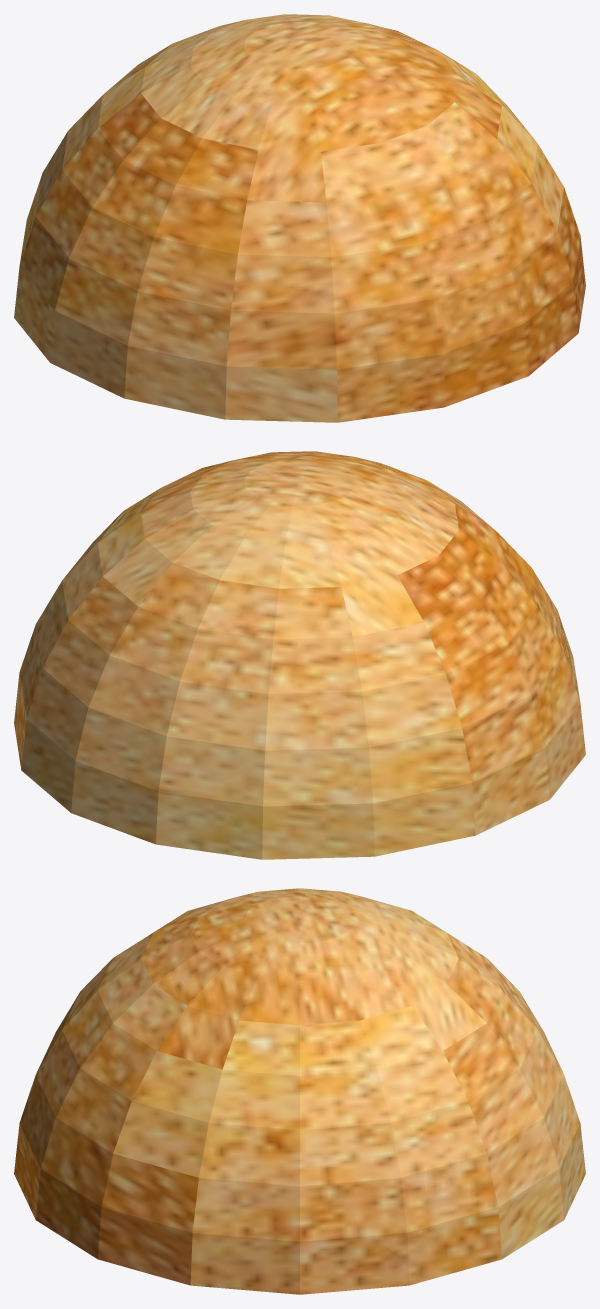
Rendered from bun_top.glb.
The picture shows the model from 3 angles, top to bottom: view 1: azimuth 30°, elevation 25°; view 2: azimuth 150°, elevation 25°; view 3: azimuth 270°, elevation 25°; orthographic projection.
Visible parts, largest first — view 1: Sphere; view 2: Sphere; view 3: Sphere.
Part boxes in pixels (box(x1,y1,x2,y2)): Sphere: box(14, 14, 585, 422); Sphere: box(14, 451, 585, 859); Sphere: box(14, 888, 585, 1294).
Size of the model in its own units: 2 by 1 by 2.
1 material, 1 textured.
